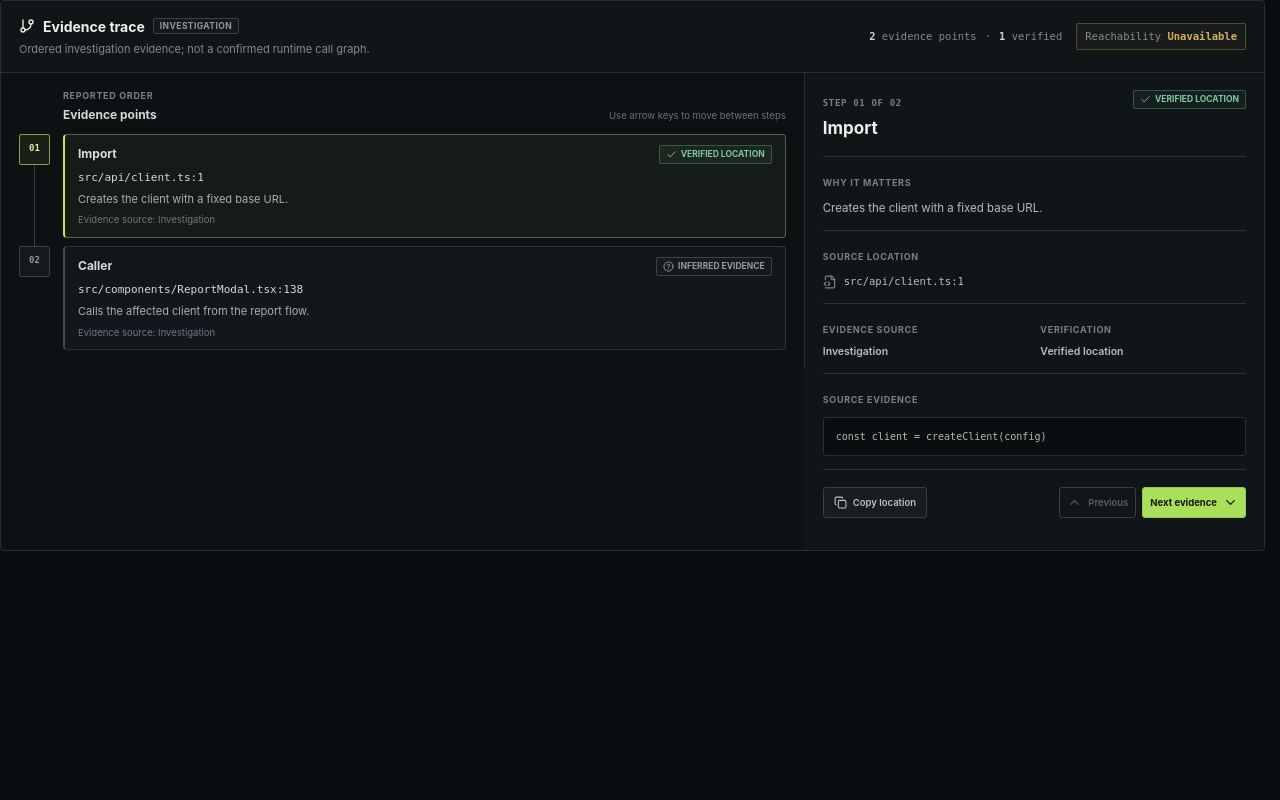
Scenario: EvidenceTrace › copies the selected source location and announces the result
The image size is (1280, 800).
Click the button with aria-label "Next evidence": {"x": 1194, "y": 503} [1142,487,1246,518]
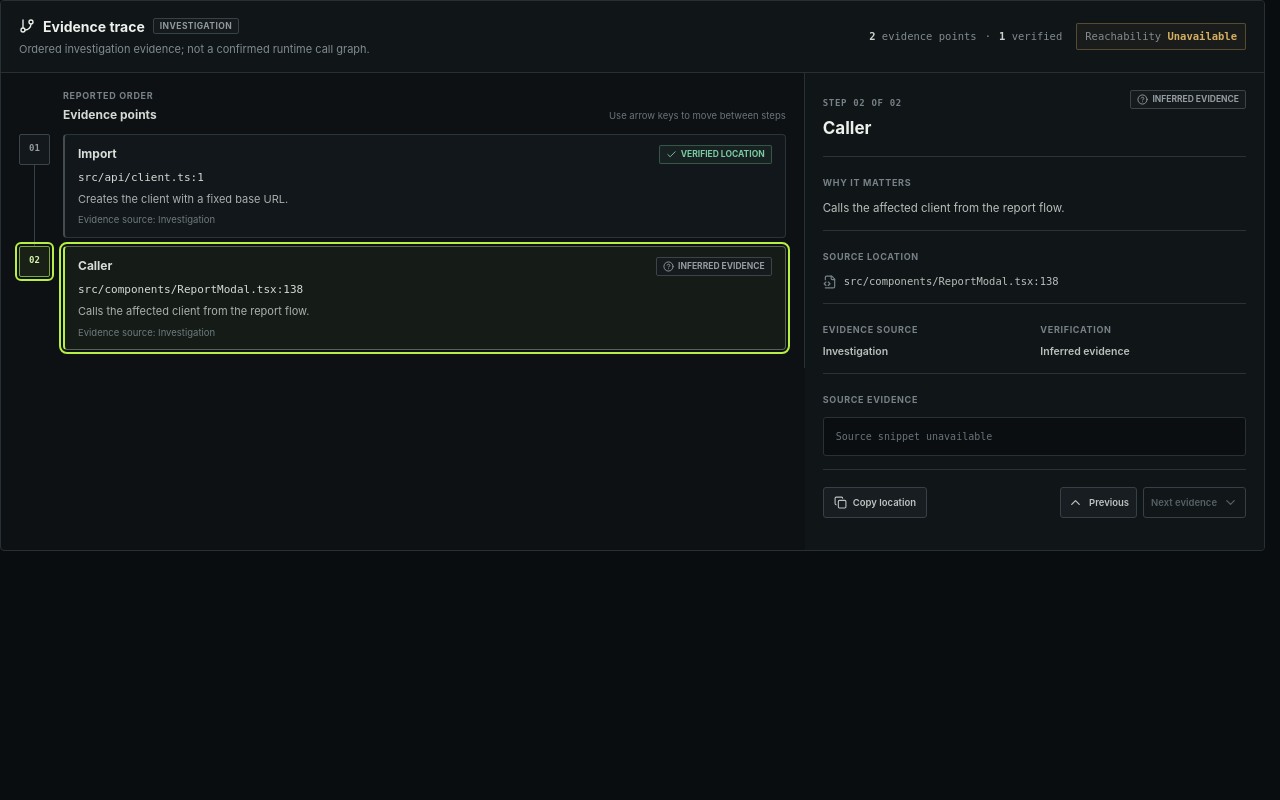
Click the button "Copy location": {"x": 875, "y": 503} [823,487,927,518]
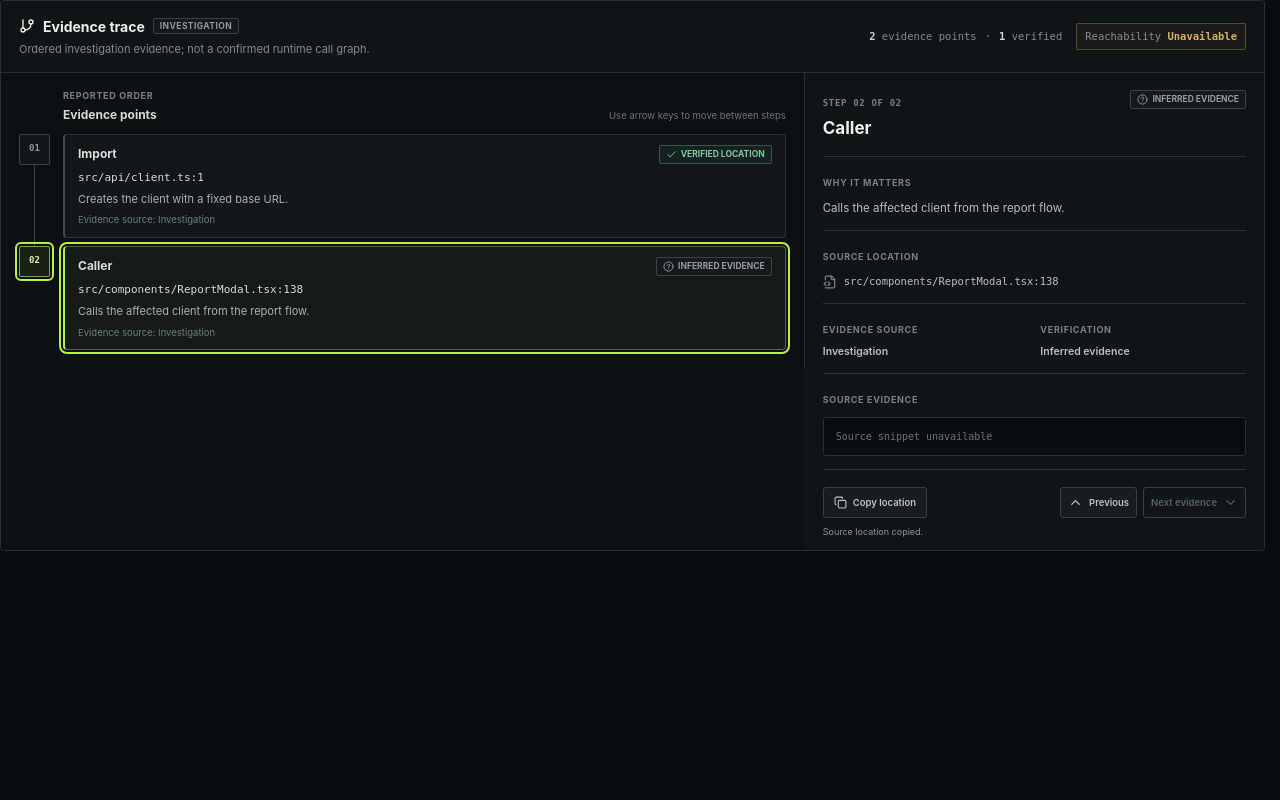
Now the message "Source location copied." is shown, box [823,526,923,537]
